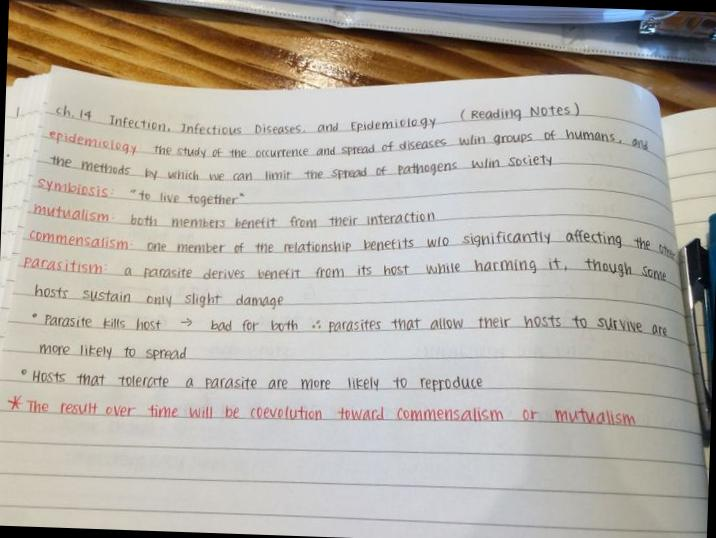text: (26, 206, 678, 275), (17, 234, 670, 300), (46, 104, 653, 174), (30, 292, 672, 354), (54, 81, 584, 154), (4, 384, 640, 438), (44, 133, 556, 199), (20, 357, 484, 404), (30, 192, 439, 240), (32, 283, 288, 314), (35, 173, 247, 210), (36, 338, 190, 367)
